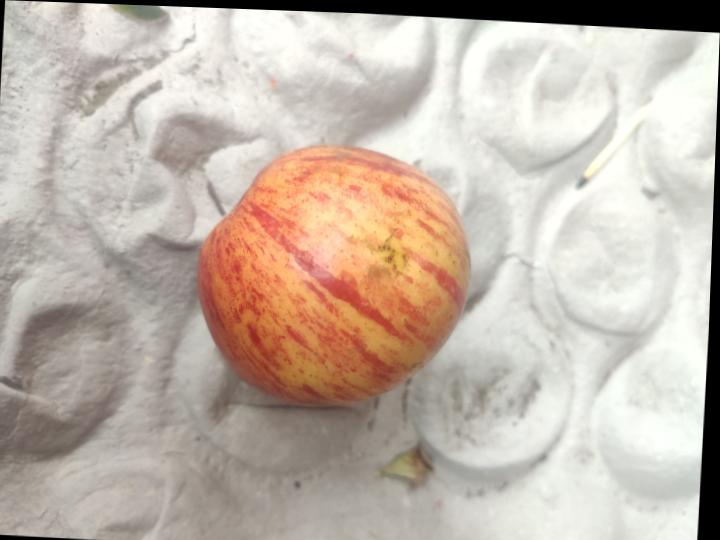apple: (198, 147, 470, 406)
surface_damage: (367, 236, 401, 277)
